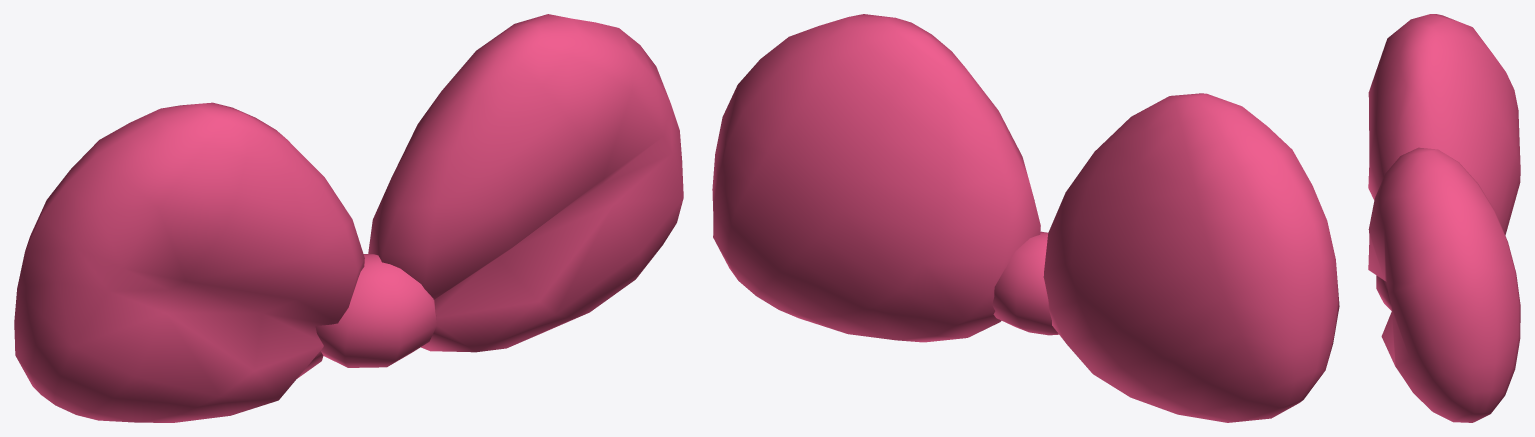
File: bow.fbx
The picture shows the model from 3 angles, left to right: view 1: azimuth 30°, elevation 25°; view 2: azimuth 150°, elevation 25°; view 3: azimuth 270°, elevation 25°; orthographic projection. The views are drawn at different scales.
Parts seen in each view (by area): view 1: bow; view 2: bow; view 3: bow.
Part boxes in pixels (x1,y1,x2,y2): bow: (14, 14, 683, 422); bow: (712, 14, 1339, 422); bow: (1368, 14, 1520, 422).
Size of the model in its own units: 35.06 by 16.59 by 9.14.
Materials: 1 (1 with a texture image).
